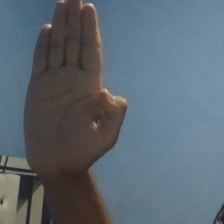B: (21, 1, 131, 180)
